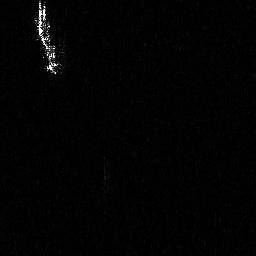ship: (33, 1, 61, 78)
